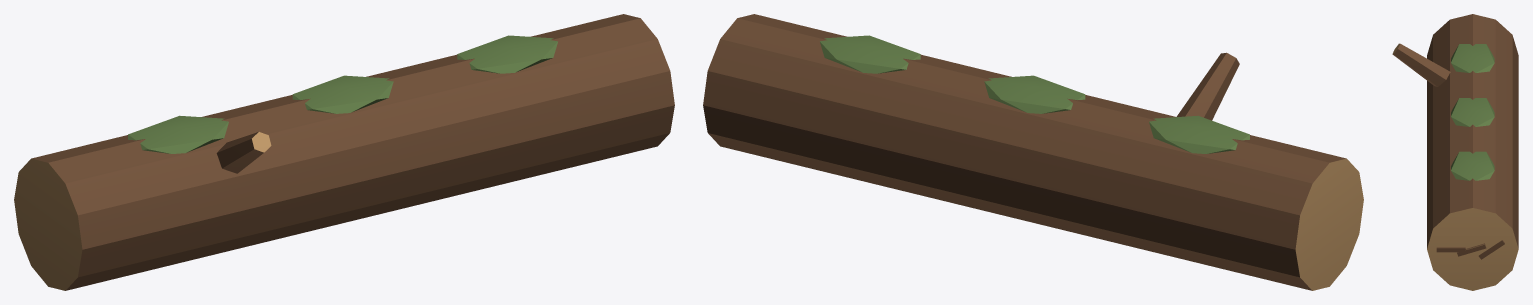
File: fallen_log.glb
3 views of the same model, side by side, from view 1: azimuth 30°, elevation 25°; view 2: azimuth 150°, elevation 25°; view 3: azimuth 270°, elevation 25° (orthographic). The views are drawn at different scales.
Parts seen in each view (by area): view 1: fallen_log; view 2: fallen_log; view 3: fallen_log.
Part boxes in pixels (x1,y1,x2,y2): fallen_log: (14, 14, 674, 290); fallen_log: (703, 14, 1363, 290); fallen_log: (1392, 14, 1518, 290).
Bounding box in the file's own units: 3.62 × 0.9073 × 0.9921.
